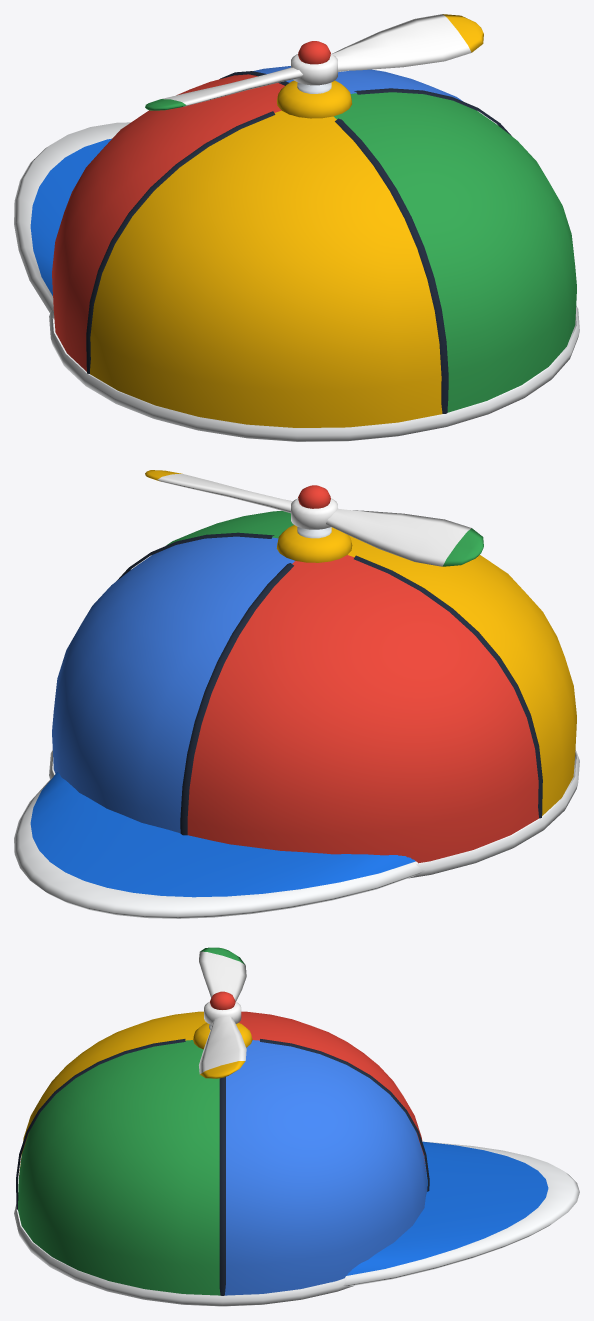
Rendered from outfit_noogler_hat.glb.
3 renders of one model, top to bottom at view 1: azimuth 30°, elevation 25°; view 2: azimuth 150°, elevation 25°; view 3: azimuth 270°, elevation 25°, orthographic. The views are drawn at different scales.
Visible parts, largest first — view 1: Noogler_Cap, Noogler_Propeller; view 2: Noogler_Cap, Noogler_Propeller; view 3: Noogler_Cap, Noogler_Propeller.
Boxes of the visible parts, left/top/right/bottom form: Noogler_Cap: left=14, top=66, right=579, bottom=441; Noogler_Propeller: left=145, top=14, right=483, bottom=110; Noogler_Cap: left=14, top=511, right=579, bottom=918; Noogler_Propeller: left=145, top=470, right=483, bottom=566; Noogler_Cap: left=14, top=1011, right=579, bottom=1306; Noogler_Propeller: left=199, top=947, right=246, bottom=1078.
Bounding box in the file's own units: 0.336 × 0.2028 × 0.4555.
